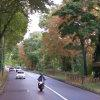Tree: (55, 4, 100, 78)
